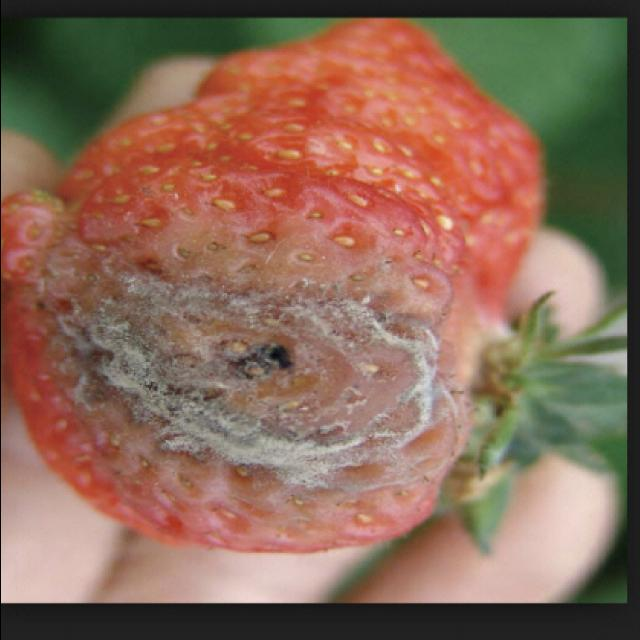Gray Mold: (2, 143, 510, 553)
